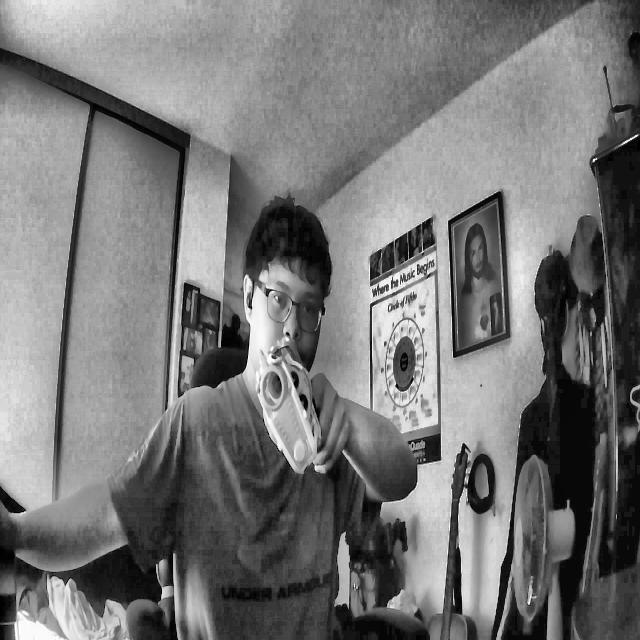Nerf_Blaster: (254, 334, 321, 476)
